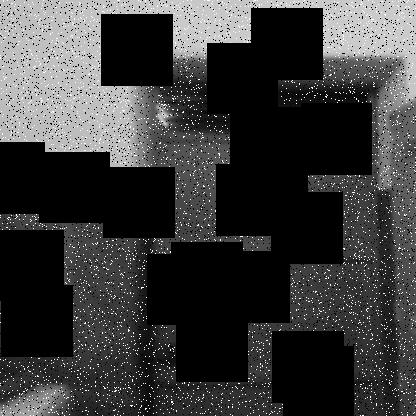Porte: (146, 69, 391, 416)
